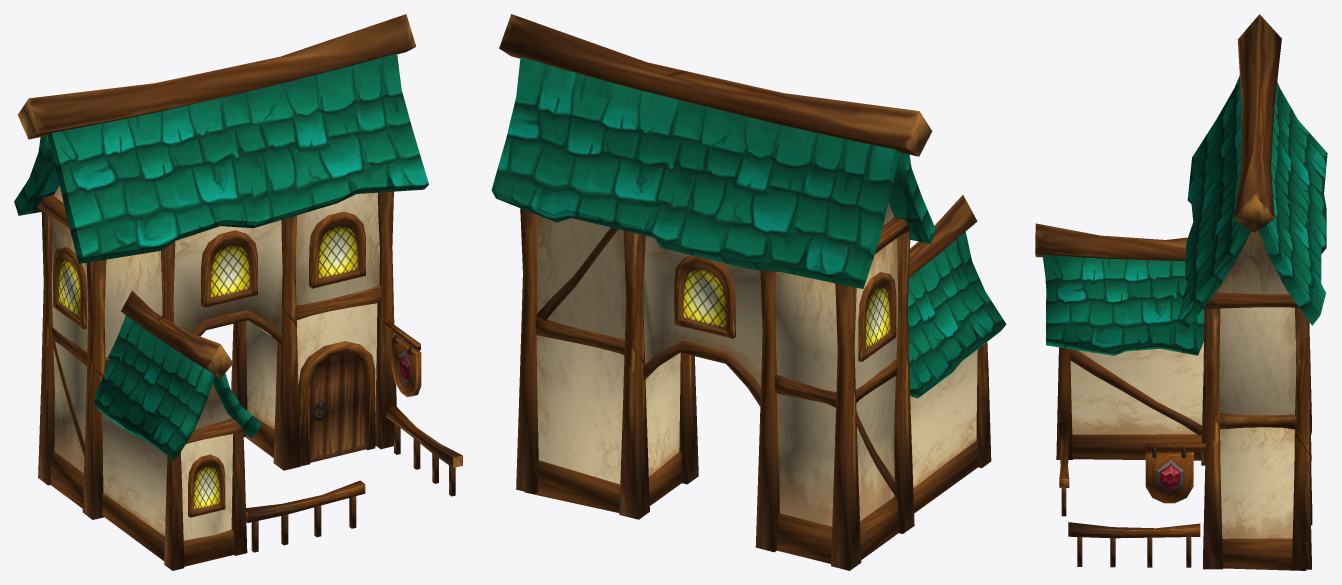
Rendered from building_8_5.FBX.
The picture shows the model from 3 angles, left to right: view 1: azimuth 30°, elevation 25°; view 2: azimuth 150°, elevation 25°; view 3: azimuth 270°, elevation 25°; orthographic projection. The views are drawn at different scales.
Visible parts, largest first — view 1: building_8_5; view 2: building_8_5; view 3: building_8_5.
Part boxes in pixels (x1,y1,x2,y2): building_8_5: (14, 14, 462, 570); building_8_5: (491, 14, 1006, 570); building_8_5: (1035, 14, 1327, 570).
Bounding box in the file's own units: 313 × 328 × 218.
